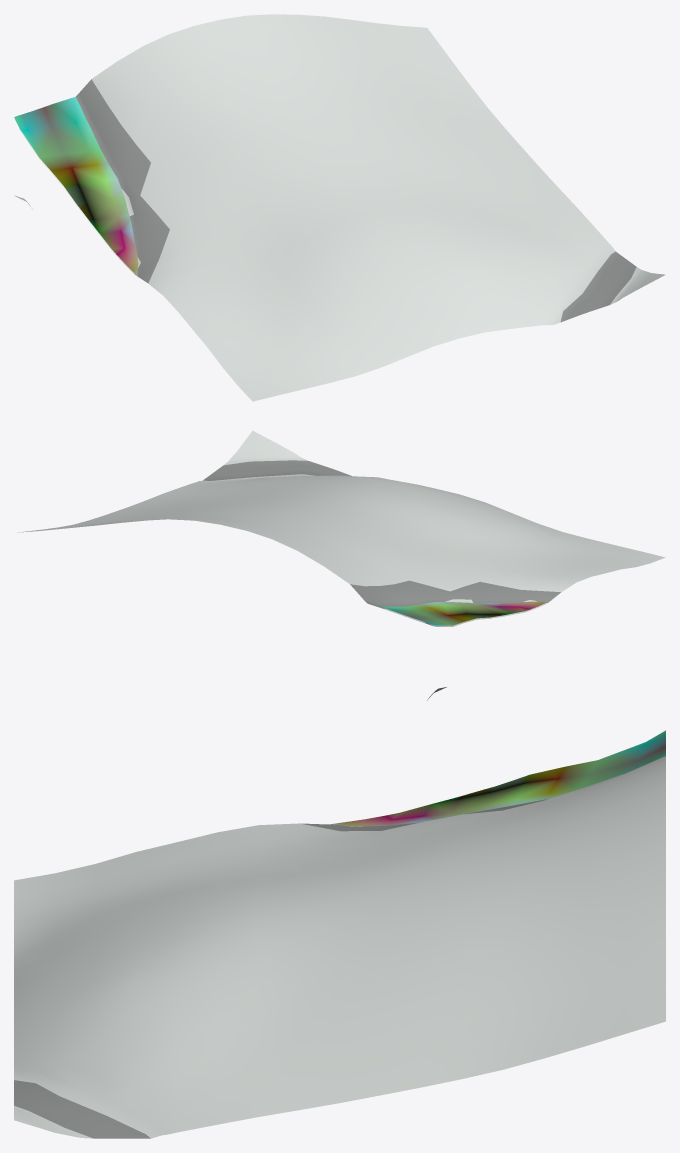
3 views of the same model, one above another, from view 1: azimuth 30°, elevation 25°; view 2: azimuth 150°, elevation 25°; view 3: azimuth 270°, elevation 25° (orthographic). The views are drawn at different scales.
Visible parts, largest first — view 1: G:\FFXIV-MapTools\exports\r1f1\bg\ffxiv\roc_r1\fld\r1f1\bgpl (×5); view 2: G:\FFXIV-MapTools\exports\r1f1\bg\ffxiv\roc_r1\fld\r1f1\bgpl (×4); view 3: G:\FFXIV-MapTools\exports\r1f1\bg\ffxiv\roc_r1\fld\r1f1\bgpl (×5).
Boxes of the visible parts, bbox=[...] form: G:\FFXIV-MapTools\exports\r1f1\bg\ffxiv\roc_r1\fld\r1f1\bgpl (×5): bbox=[14, 14, 665, 401]; G:\FFXIV-MapTools\exports\r1f1\bg\ffxiv\roc_r1\fld\r1f1\bgpl (×4): bbox=[17, 430, 665, 625]; G:\FFXIV-MapTools\exports\r1f1\bg\ffxiv\roc_r1\fld\r1f1\bgpl (×5): bbox=[14, 730, 665, 1138].
Size of the model in its own units: 128 by 46.58 by 128.
